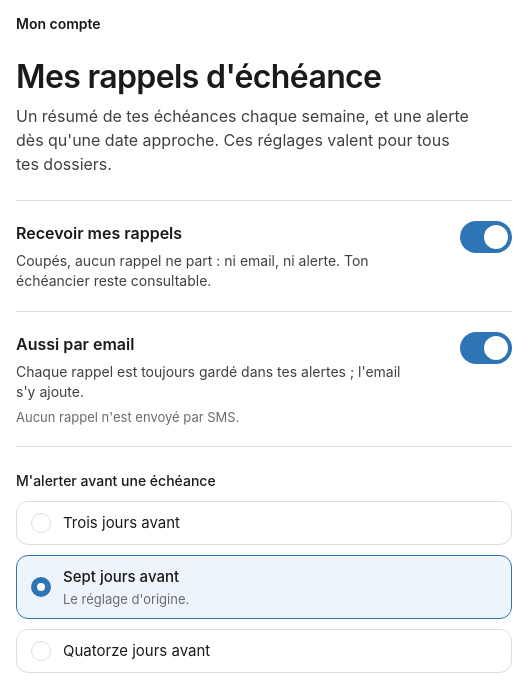
it: Préférences de rappel › garde les réglages affichés quand l'enregistrement échoue
Click the radio button labelled "Trois jours avant": (122, 522) [16,501,512,545]
(page scrolled)
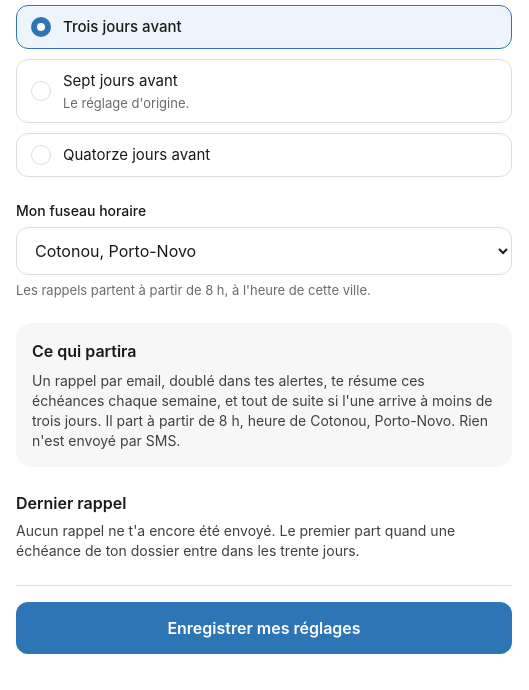
Click the button "Enregistrer mes réglages": (264, 628) [16,602,512,654]
(page scrolled)
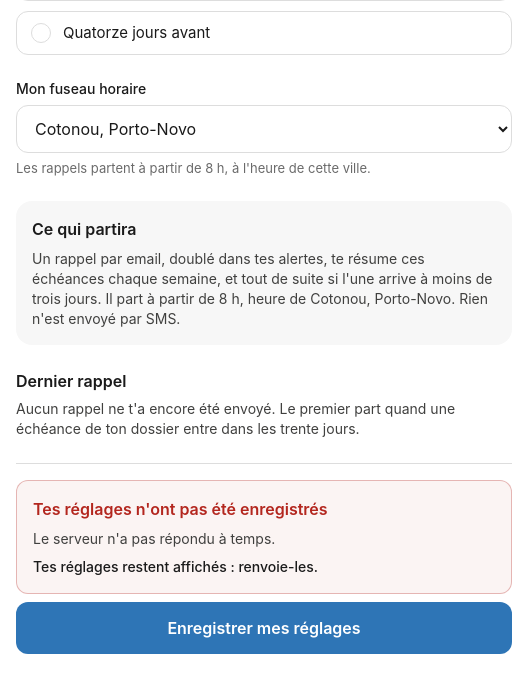
Expected: the text "moins de trois jours" is shown, [32,250,492,327]
Expected: the button "Enregistrer mes réglages" is enabled, [16,602,512,654]
Expected: the message shows "restent affichés", [33,558,318,575]
